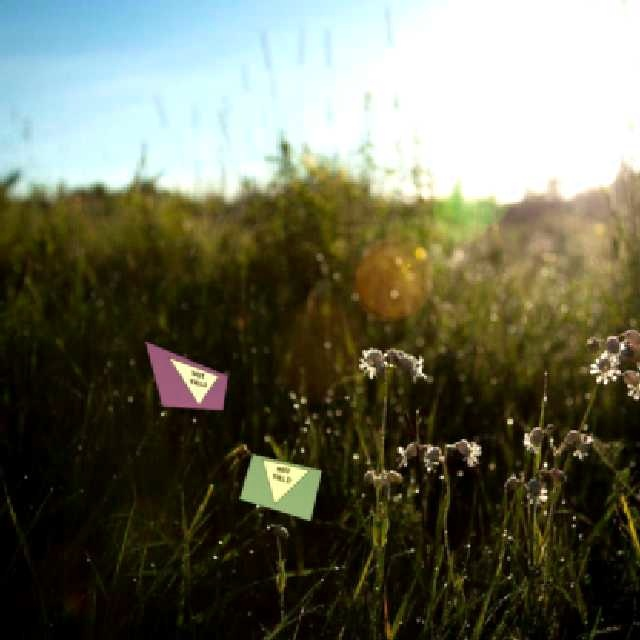NOT_YIELD: (250, 455, 309, 510), (162, 356, 220, 408)
